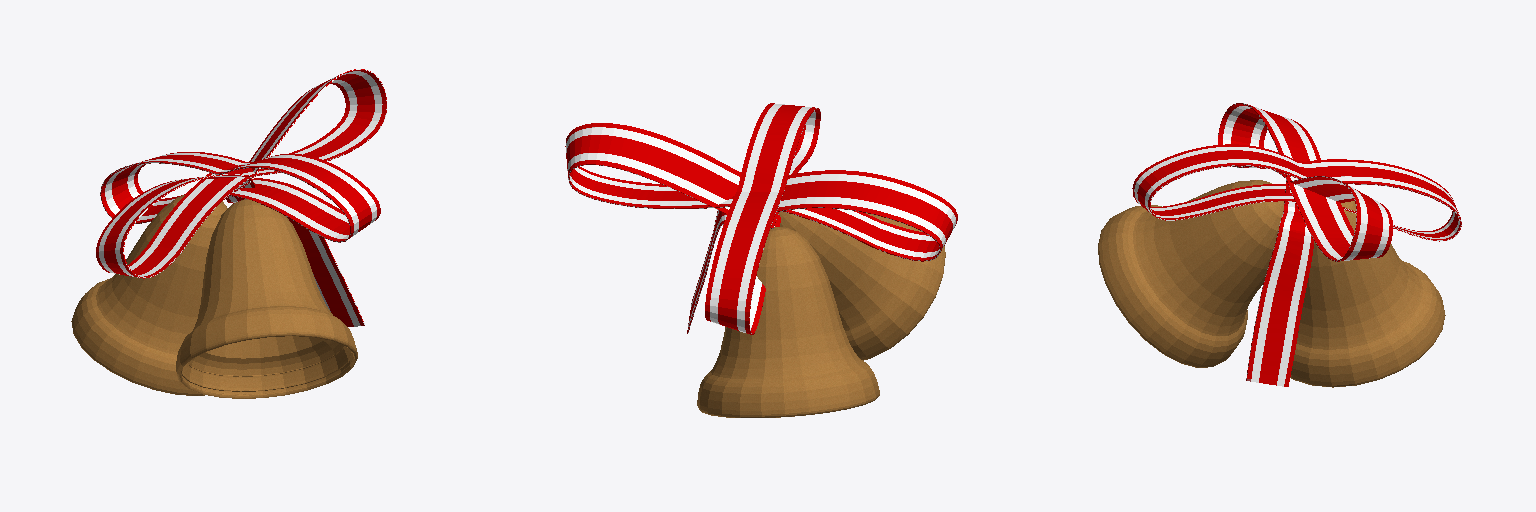
3 renders of one model, left to right at view 1: azimuth 30°, elevation 25°; view 2: azimuth 150°, elevation 25°; view 3: azimuth 270°, elevation 25°, orthographic.
Parts seen in each view (by area): view 1: Lenta, Bell_01, Bell; view 2: Lenta, Bell, Bell_01; view 3: Lenta, Bell_01, Bell.
Part boxes in pixels (left/top/right/bottom): Lenta: left=96, top=69, right=386, bottom=326; Bell_01: left=176, top=199, right=357, bottom=398; Bell: left=71, top=195, right=227, bottom=395; Lenta: left=565, top=103, right=957, bottom=334; Bell: left=697, top=227, right=879, bottom=417; Bell_01: left=779, top=211, right=945, bottom=360; Lenta: left=1132, top=103, right=1461, bottom=386; Bell_01: left=1098, top=180, right=1283, bottom=367; Bell: left=1290, top=201, right=1445, bottom=387.
Size of the model in its own units: 173 by 128 by 165.
2 materials, 2 textured.